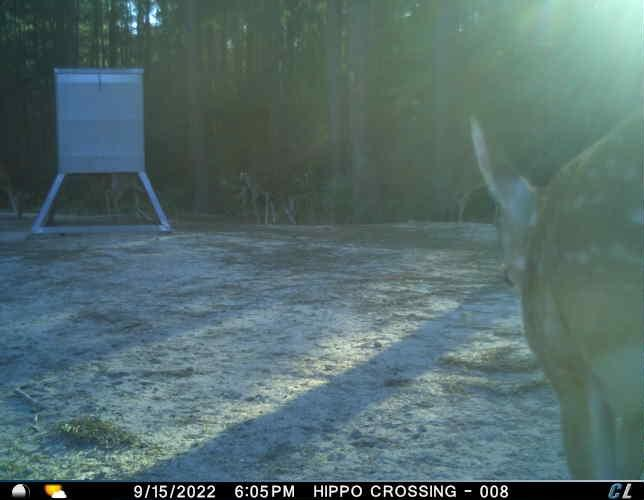Deer: (468, 105, 644, 479), (231, 168, 301, 232), (96, 174, 147, 223), (0, 164, 28, 228)
